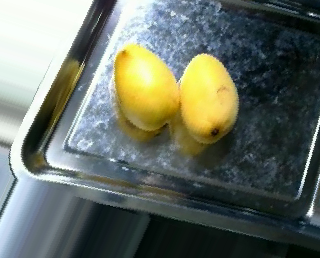Mango: (177, 48, 243, 145), (113, 45, 179, 130)
